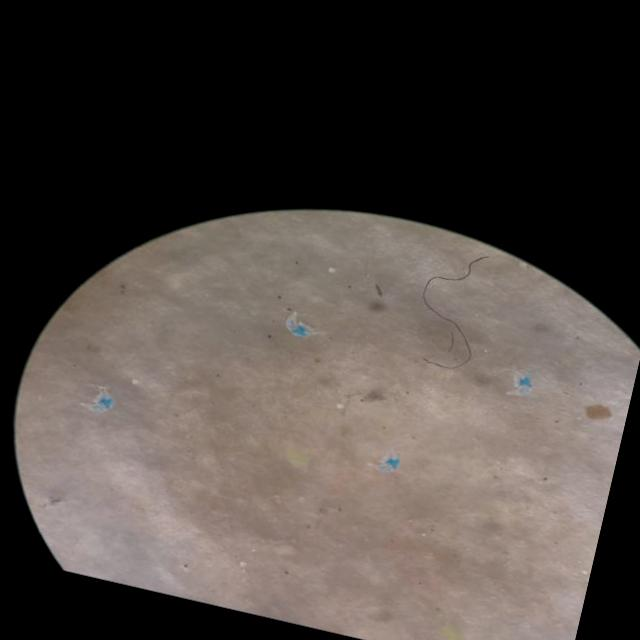fiber: (421, 254, 486, 367)
film: (85, 389, 113, 412), (285, 312, 310, 336), (376, 455, 398, 470)
fragment: (285, 445, 308, 466), (585, 403, 610, 419), (439, 624, 462, 640)
pellet: (336, 402, 343, 408), (327, 266, 334, 272), (132, 378, 137, 383)
